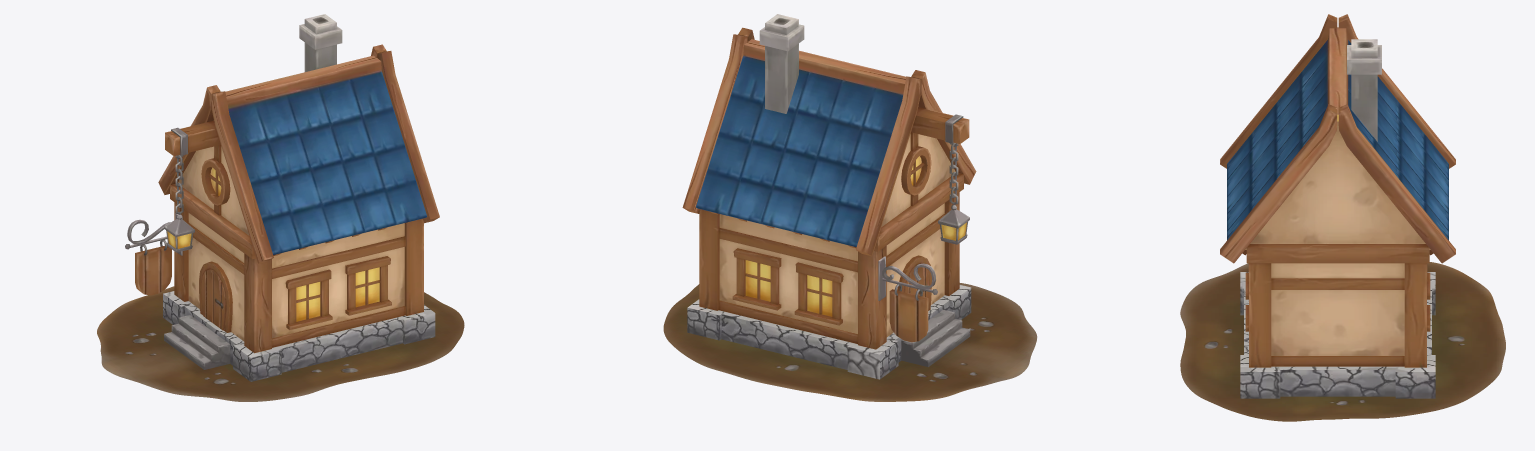
Rendered from low-poly-house.glb.
3 views of the same model, side by side, from view 1: azimuth 30°, elevation 25°; view 2: azimuth 150°, elevation 25°; view 3: azimuth 270°, elevation 25° (orthographic). The views are drawn at different scales.
Visible parts, largest first — view 1: Object_3, Object_2; view 2: Object_3, Object_2; view 3: Object_3, Object_2.
Part boxes in pixels (box(x1,y1,x2,y2)): Object_3: box(125, 14, 439, 381); Object_2: box(97, 286, 464, 401); Object_3: box(682, 14, 976, 379); Object_2: box(663, 283, 1037, 401); Object_3: box(1220, 14, 1455, 398); Object_2: box(1180, 262, 1505, 421).
Size of the model in its own units: 137 by 104 by 107.
2 materials, 2 textured.
